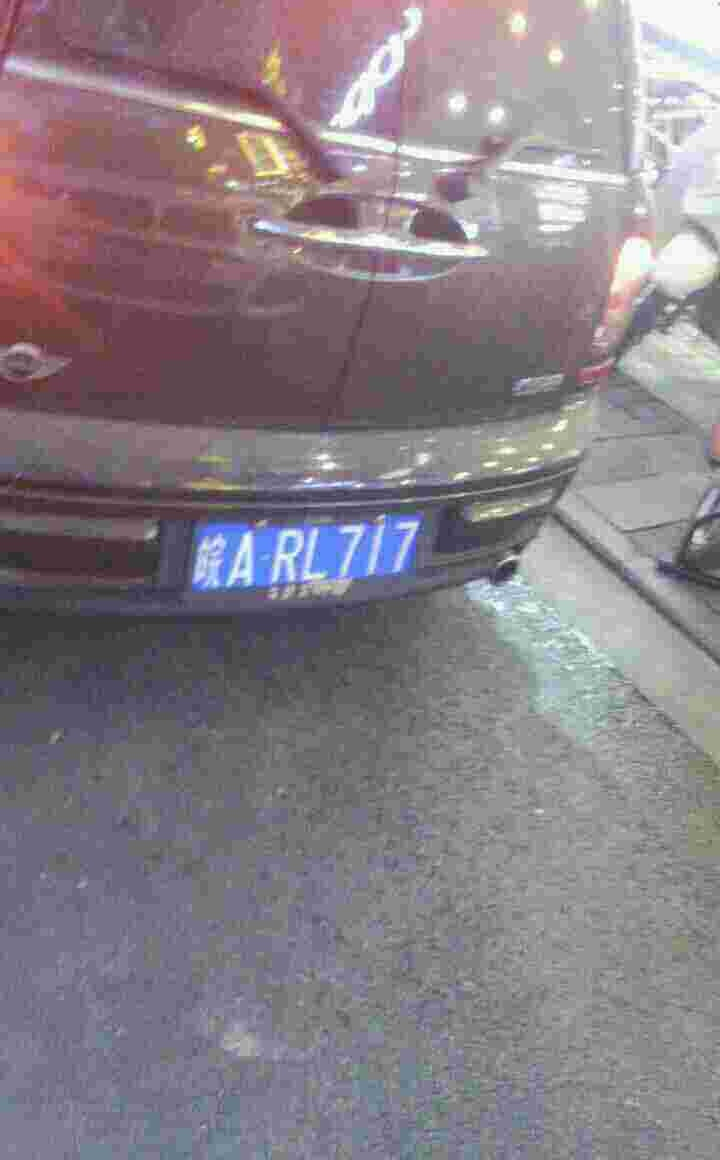license_plate: (190, 514, 431, 593)
